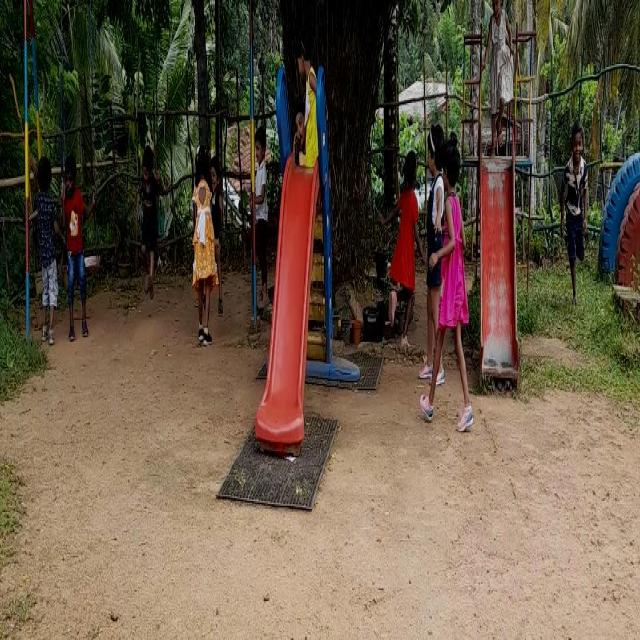child: (436, 126, 469, 410), (387, 137, 424, 355), (557, 94, 590, 313), (64, 142, 95, 347), (30, 139, 57, 353), (486, 0, 518, 165), (190, 147, 216, 349), (137, 121, 163, 313), (292, 27, 325, 176)
